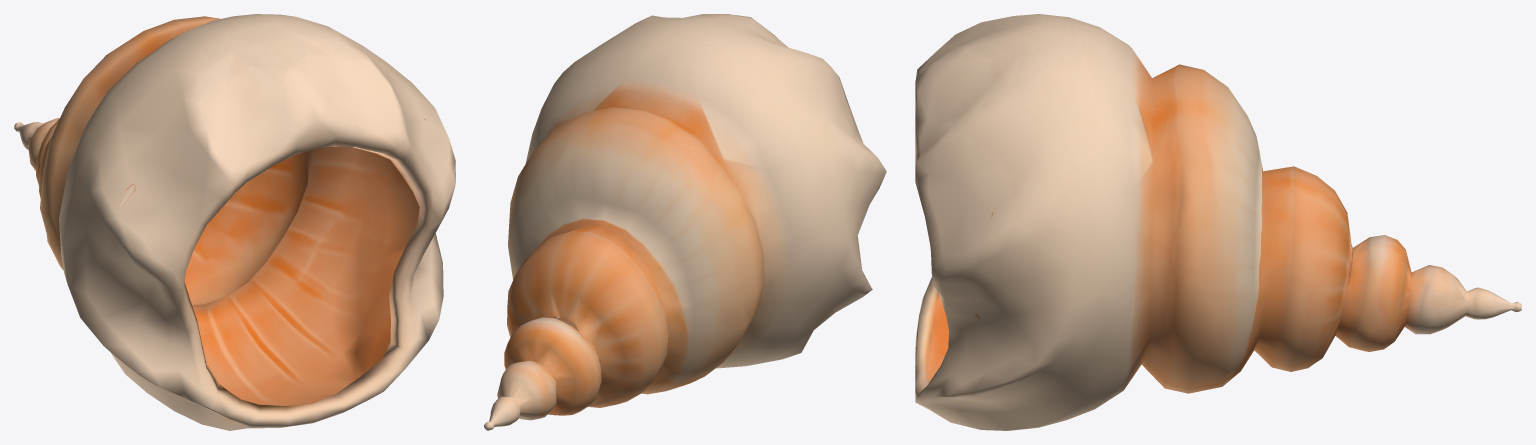
Rendered from shell-big.glb.
3 renders of one model, left to right at view 1: azimuth 30°, elevation 25°; view 2: azimuth 150°, elevation 25°; view 3: azimuth 270°, elevation 25°, orthographic. The views are drawn at different scales.
Size of the model in its own units: 0.6903 by 0.6827 by 1.
Materials: 1 (1 with a texture image).
